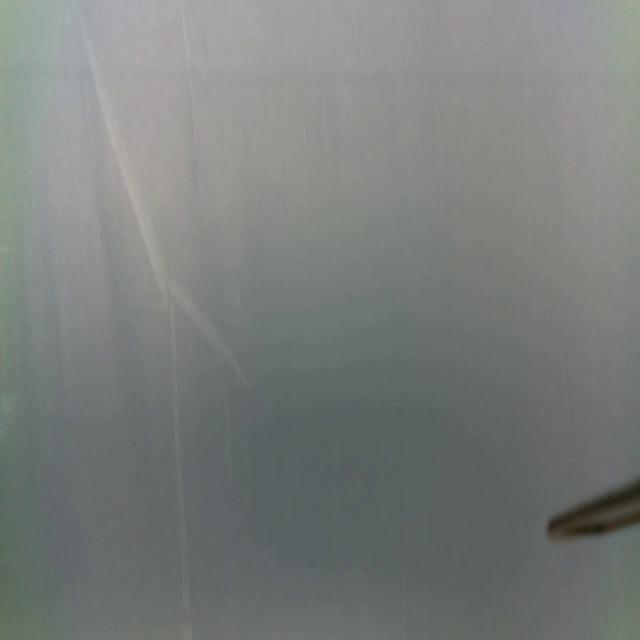color bleeding: (1, 52, 636, 94)
crease: (82, 15, 168, 308), (170, 275, 254, 384), (170, 305, 192, 637), (177, 3, 206, 188)
